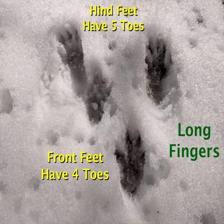squirrel: (108, 126, 150, 198), (137, 34, 174, 110)
